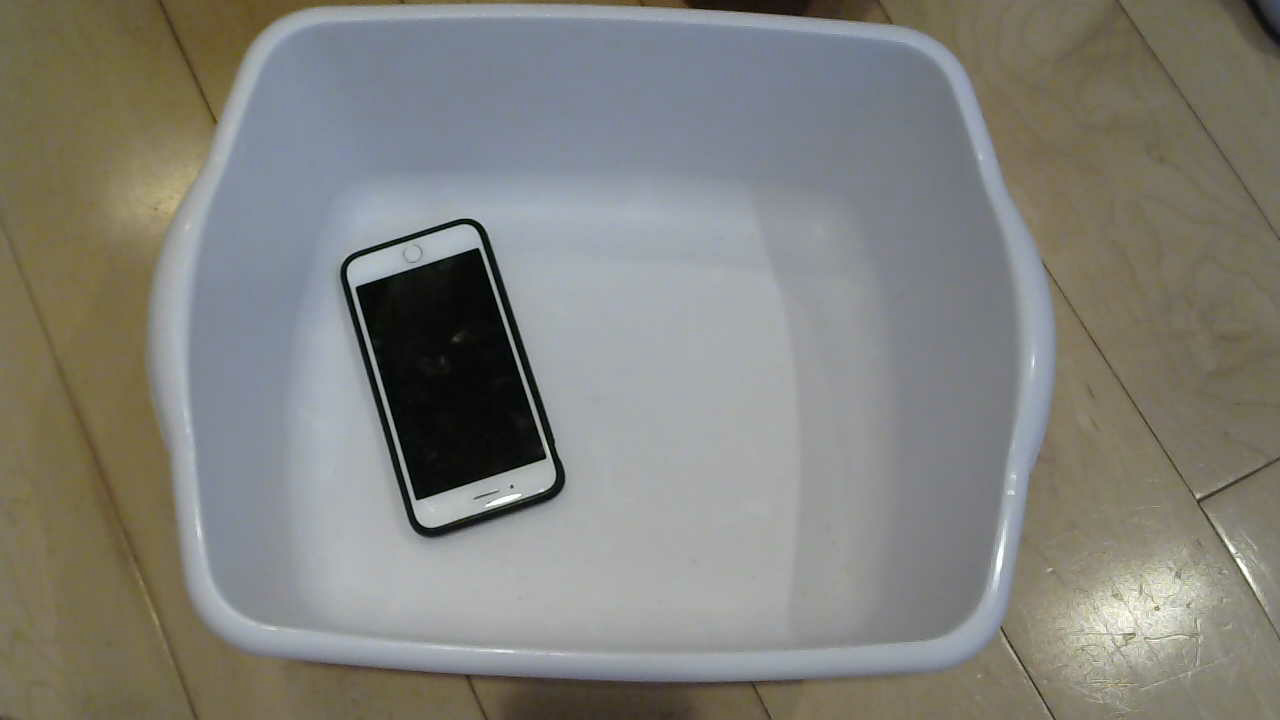phone: (330, 219, 609, 540)
